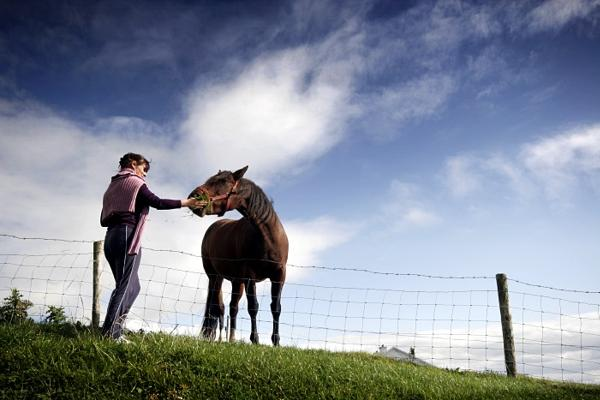person: (100, 153, 206, 347)
